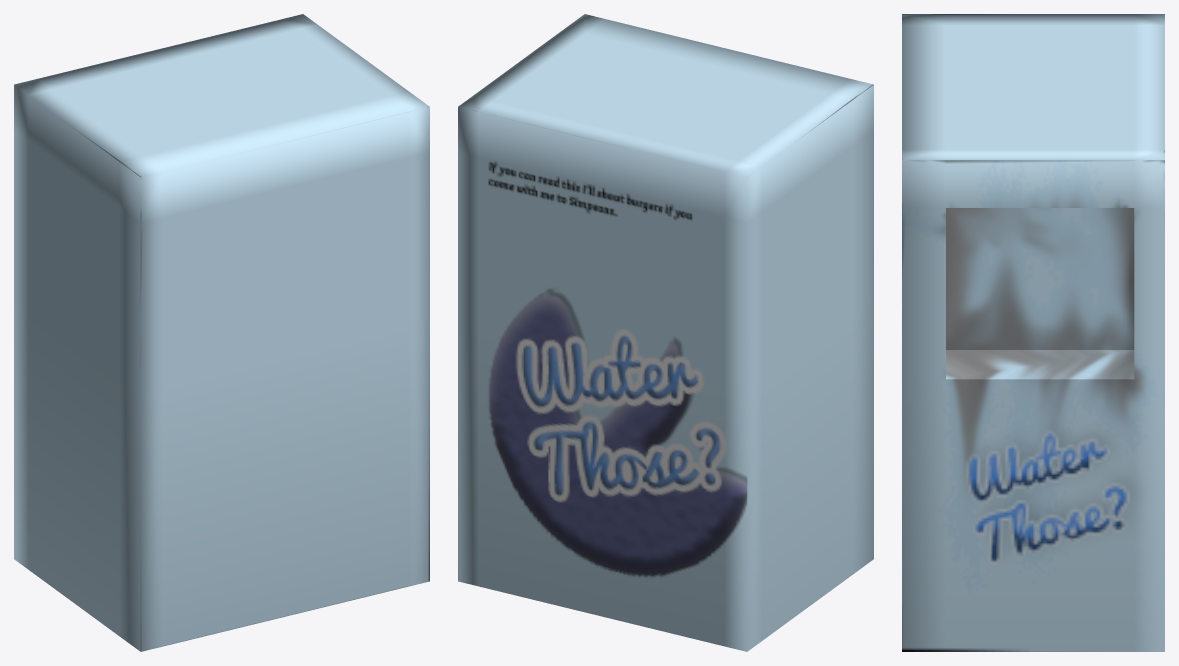
The model's file is Water_Tank_Bottom.fbx.
3 renders of one model, left to right at view 1: azimuth 30°, elevation 25°; view 2: azimuth 150°, elevation 25°; view 3: azimuth 270°, elevation 25°, orthographic. The views are drawn at different scales.
Visible parts, largest first — view 1: polySurface58; view 2: polySurface58; view 3: polySurface58.
Boxes of the visible parts, x1,y1,x2,y2 form: polySurface58: (14, 14, 429, 651); polySurface58: (458, 14, 873, 651); polySurface58: (902, 14, 1164, 651).
Size of the model in its own units: 39.41 by 61.81 by 29.93.
